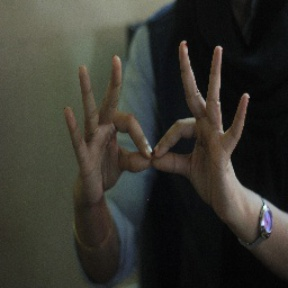B: (87, 85, 225, 187)
